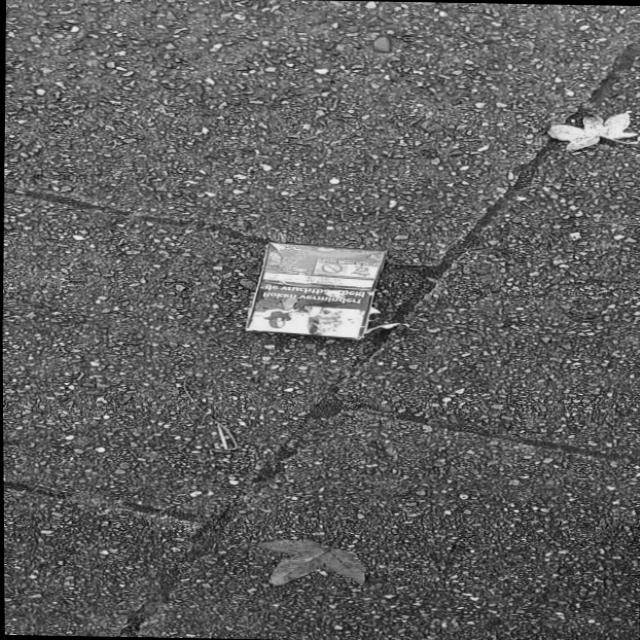Paper: (241, 238, 403, 342)
